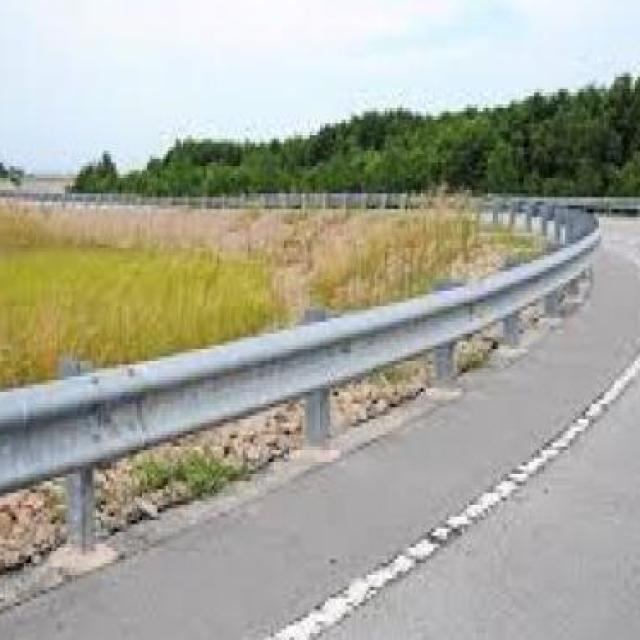Guard rail: (0, 207, 601, 596)
